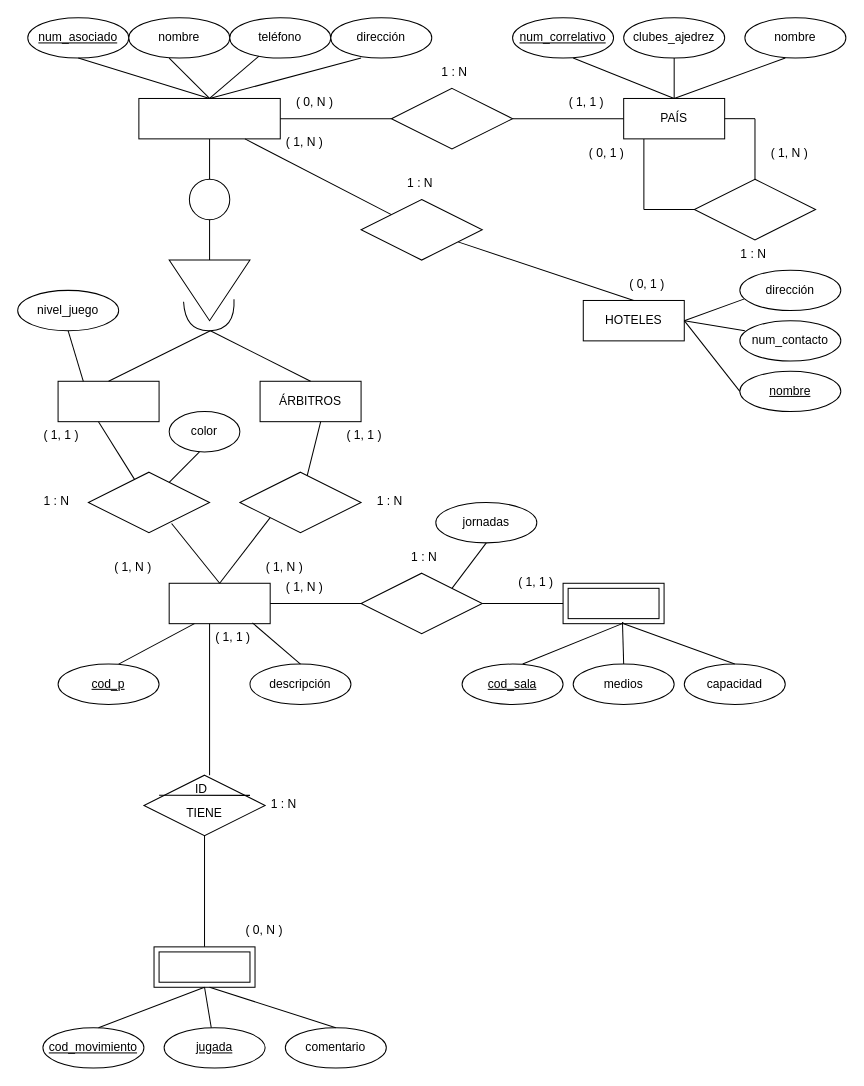
The diagram is 864 pixels wide and 1086 high, and some of its shapes have lost their labels. The shapes that lost their labels are listed below. From the top down, each one's centre as x and y in pixels, then its label:
At point 209,118: "PARTICIPANTES".
At point 451,118: "ENVÍAN".
At point 421,229: "ALOJAR".
At point 754,209: "REPRESENTAR".
At point 108,401: "JUGADORES".
At point 148,502: "DISPUTAN".
At point 300,502: "JUZGAN".
At point 219,603: "PARTIDAS".
At point 421,603: "DESARROLLAN".
At point 613,603: "SALAS".
At point 204,966: "MOVIMIENTOS".
